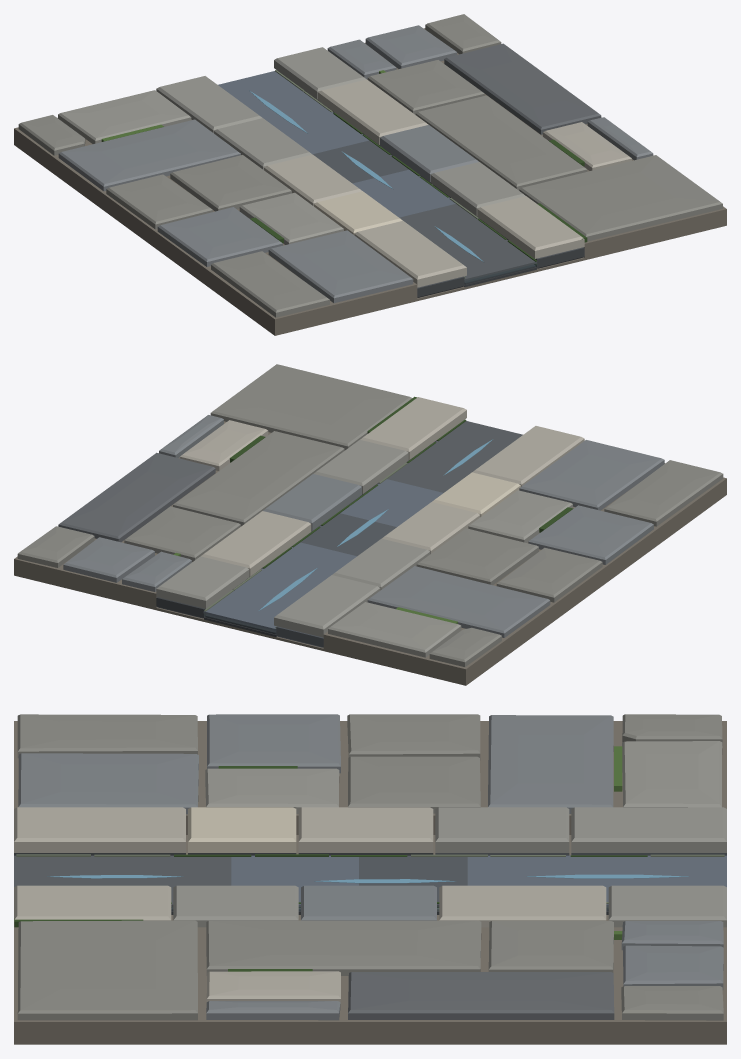
Rendered from SM_LPD_Floor_PavingChannelStraight_01.fbx.
The picture shows the model from 3 angles, top to bottom: view 1: azimuth 30°, elevation 25°; view 2: azimuth 150°, elevation 25°; view 3: azimuth 270°, elevation 25°; orthographic projection. The views are drawn at different scales.
Visible parts, largest first — view 1: SM_LPD_Floor_PavingChannelStraight_01; view 2: SM_LPD_Floor_PavingChannelStraight_01; view 3: SM_LPD_Floor_PavingChannelStraight_01.
Boxes of the visible parts, x1,y1,x2,y2 form: SM_LPD_Floor_PavingChannelStraight_01: (14, 14, 726, 335); SM_LPD_Floor_PavingChannelStraight_01: (14, 364, 726, 685); SM_LPD_Floor_PavingChannelStraight_01: (14, 714, 726, 1044).
Size of the model in its own units: 4 by 0.2 by 4.
